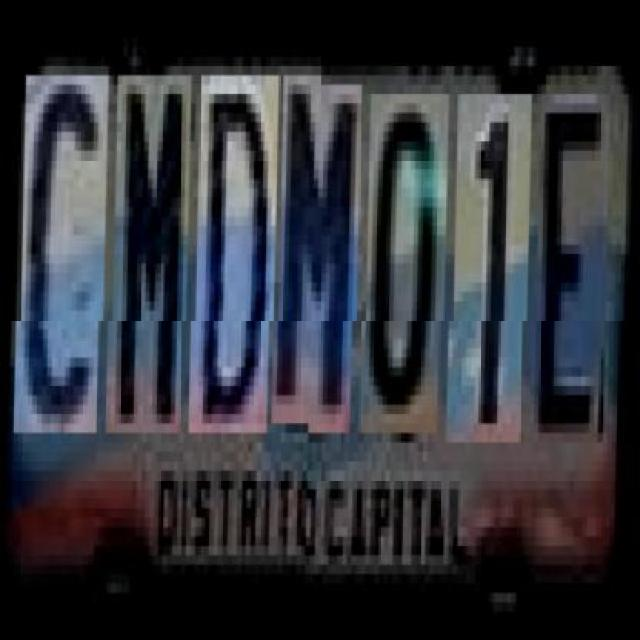1: (453, 94, 533, 441)
c: (20, 85, 109, 443)
d: (195, 85, 279, 443)
e: (536, 94, 612, 441)
m: (278, 85, 362, 433), (112, 85, 192, 443)
o: (365, 95, 450, 433)
